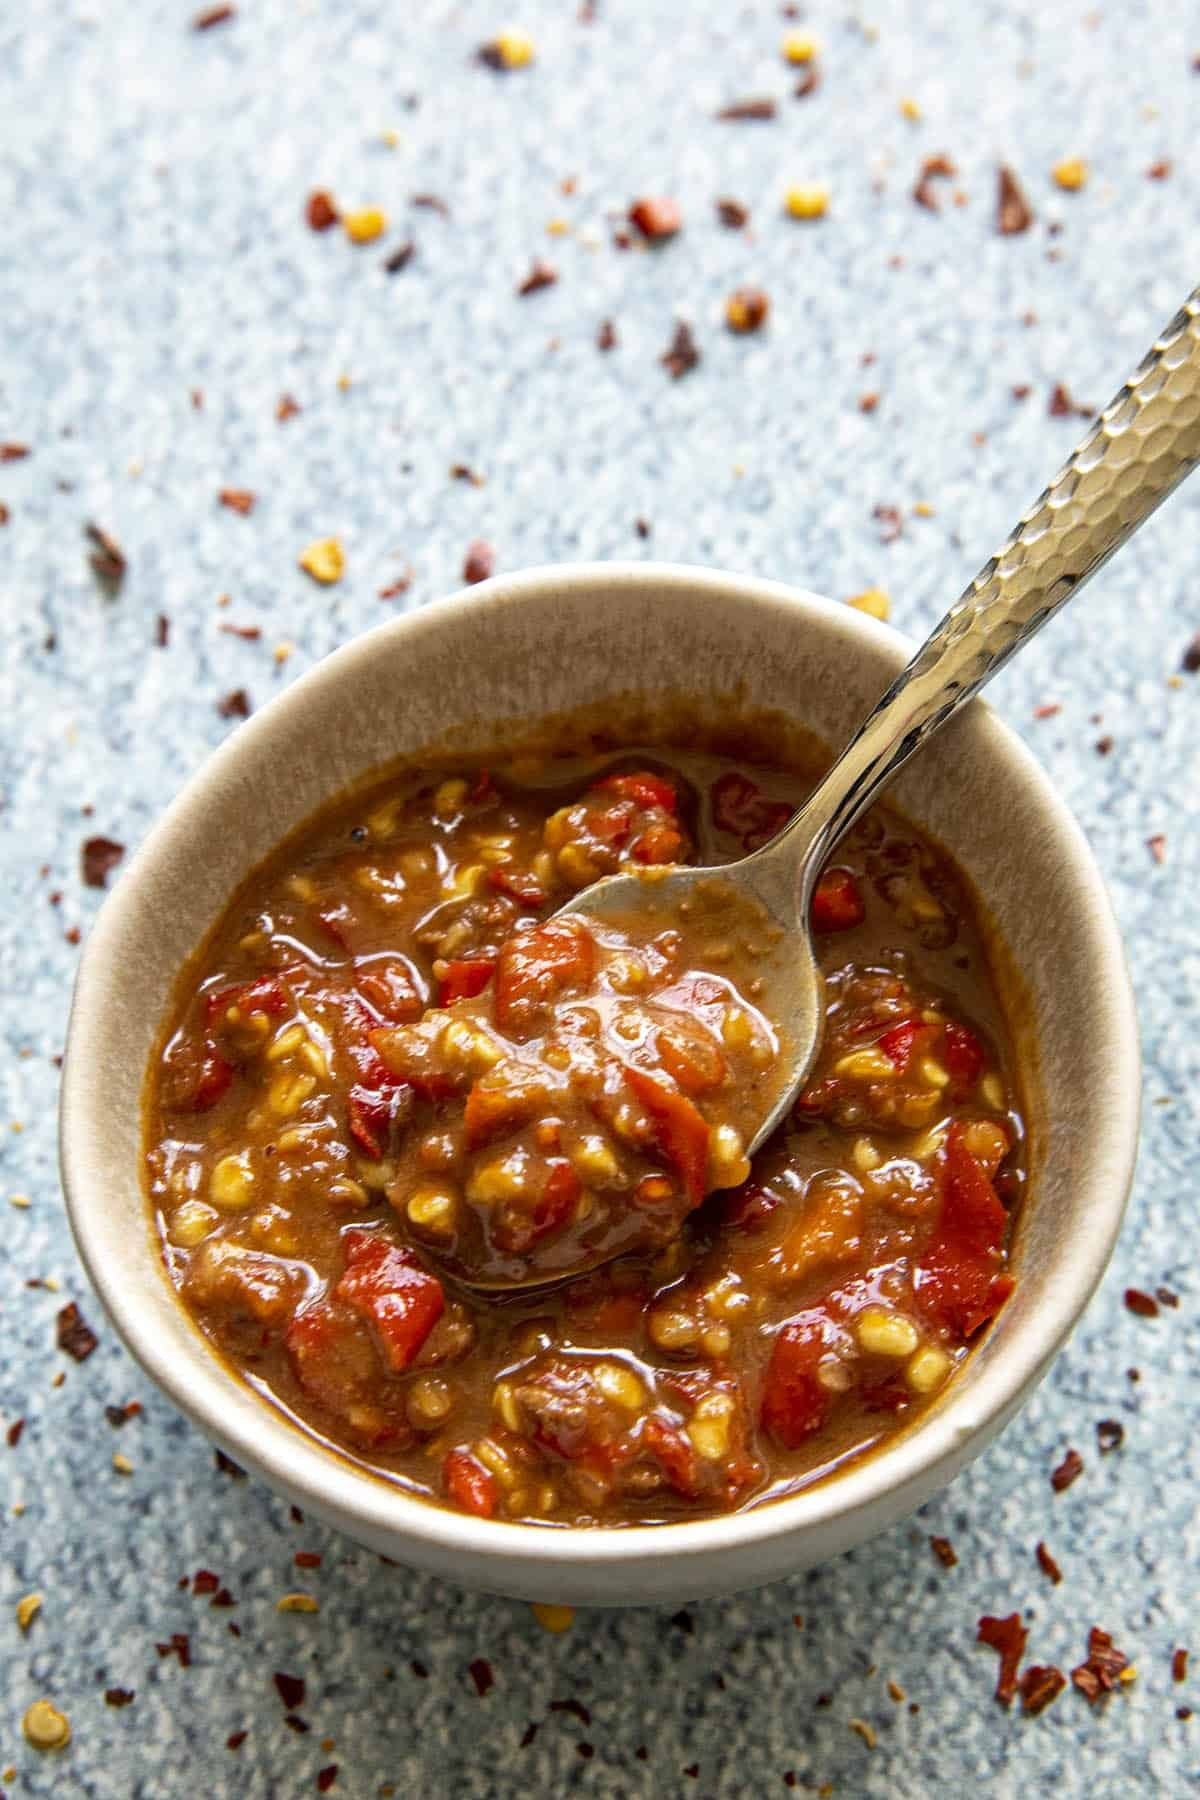sambal: (151, 733, 1031, 1512)
